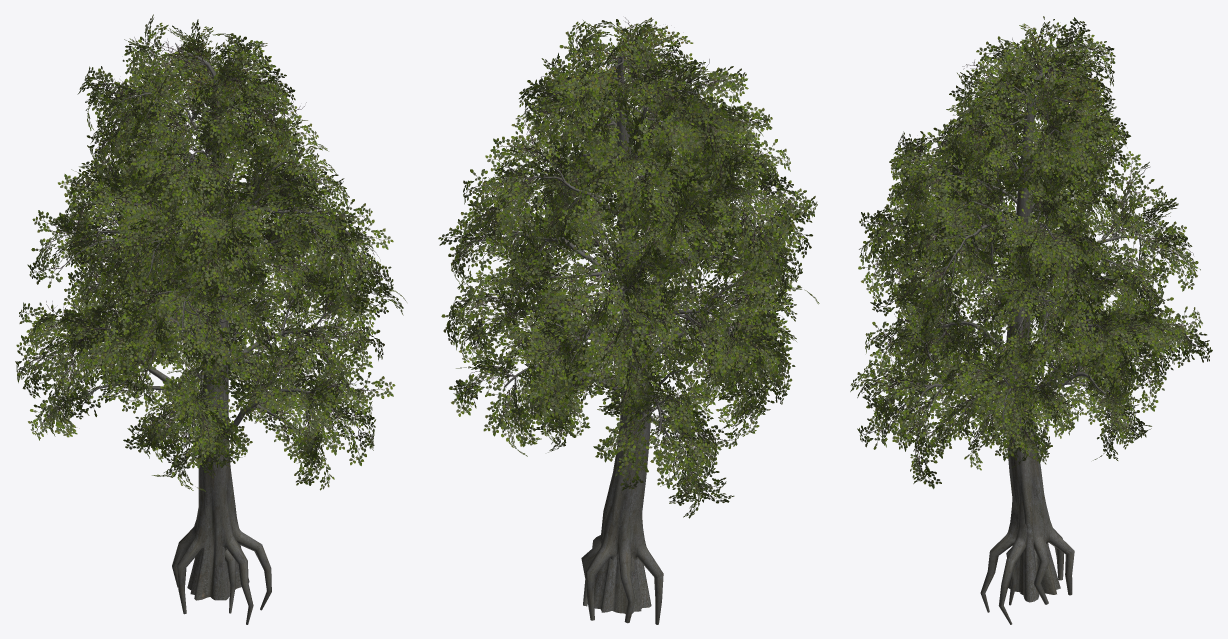
File: Sketchfab_Scene.gltf
3 renders of one model, left to right at view 1: azimuth 30°, elevation 25°; view 2: azimuth 150°, elevation 25°; view 3: azimuth 270°, elevation 25°, orthographic. The views are drawn at different scales.
Visible parts, largest first — view 1: Linden_LOD0; view 2: Linden_LOD0; view 3: Linden_LOD0.
Boxes of the visible parts, bbox=[...] form: Linden_LOD0: bbox=[15, 14, 406, 624]; Linden_LOD0: bbox=[438, 17, 819, 624]; Linden_LOD0: bbox=[850, 16, 1212, 624].
Size of the model in its own units: 10.12 by 18.04 by 10.4.
2 materials, 2 textured.
